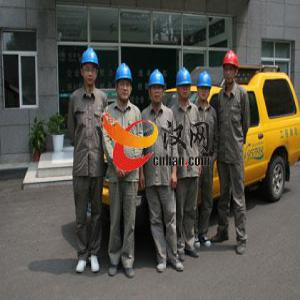blue: (80, 48, 101, 88), (115, 63, 134, 103), (175, 67, 194, 103), (148, 70, 166, 106), (197, 73, 213, 103)
red: (221, 50, 241, 87)
